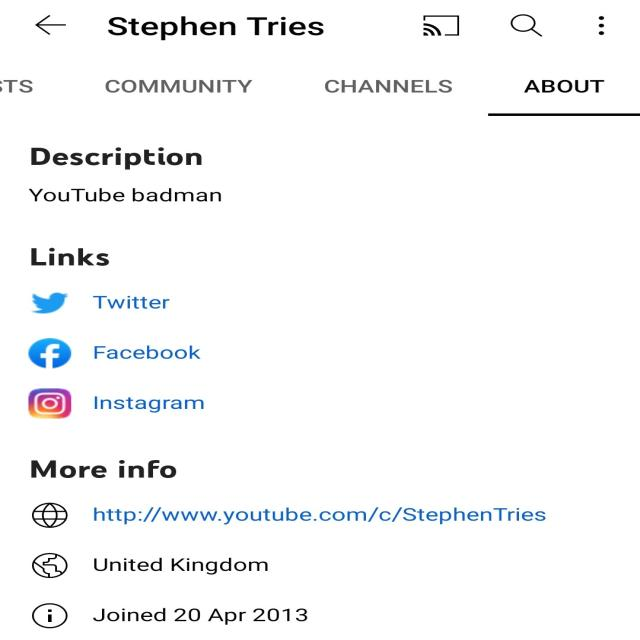buttons: (22, 338, 203, 368), (30, 388, 203, 418), (32, 290, 177, 315), (107, 78, 255, 100), (320, 76, 456, 96), (518, 77, 602, 98), (420, 12, 462, 42), (510, 10, 540, 35)
links: (89, 504, 549, 524)
text: (103, 14, 324, 38), (95, 554, 274, 577), (100, 607, 314, 625), (36, 150, 209, 170), (30, 459, 177, 481), (32, 186, 225, 201), (30, 247, 113, 270)
